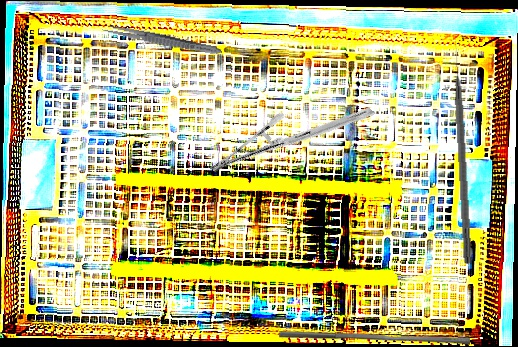Dressing Forceps: (100, 22, 224, 58)
Hook Surgical: (451, 40, 474, 265)
Needle Holder: (208, 53, 376, 227)
Pusher: (279, 331, 470, 345)
